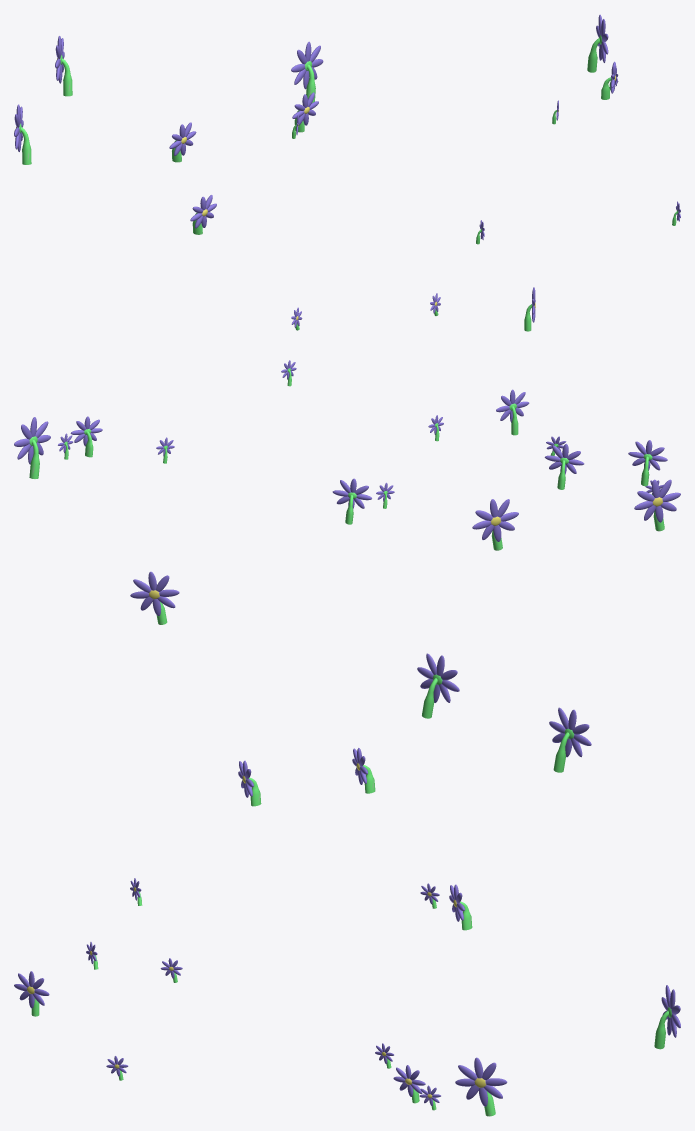
Rendered from purpleflowers.fbx.
The picture shows the model from 3 angles, top to bottom: view 1: azimuth 30°, elevation 25°; view 2: azimuth 150°, elevation 25°; view 3: azimuth 270°, elevation 25°; orthographic projection. The views are drawn at different scales.
Parts seen in each view (by area): view 1: pasted__pasted__pasted__pasted__pasted__pasted__pasted__e11. (×7); view 2: pasted__pasted__pasted__pasted__pasted__pasted__pasted__e11. (×9); view 3: pasted__pasted__pasted__pasted__pasted__pasted__pasted__e11. (×5).
Part boxes in pixels (box(x1,y1,x2,y2)): pasted__pasted__pasted__pasted__pasted__pasted__pasted__e11. (×7): box(14, 14, 608, 234); pasted__pasted__pasted__pasted__pasted__pasted__pasted__e11. (×9): box(14, 389, 680, 624); pasted__pasted__pasted__pasted__pasted__pasted__pasted__e11. (×5): box(14, 653, 680, 1116).
Bounding box in the file's own units: 25460 × 6600 × 21484.
16 materials, 16 textured.
